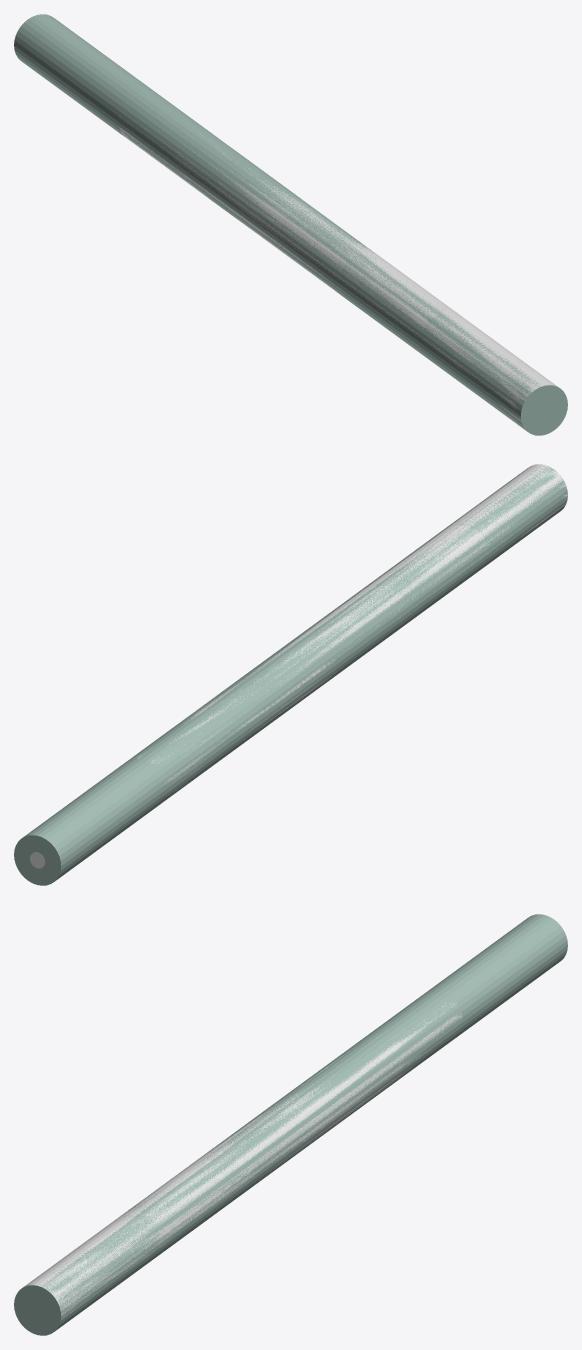
3 views of the same model, one above another, from view 1: azimuth 30°, elevation 25°; view 2: azimuth 150°, elevation 25°; view 3: azimuth 330°, elevation 25° (orthographic).
Parts seen in each view (by area): view 1: UCL_Rocket, Rocket_LOD0; view 2: UCL_Rocket, Rocket_LOD0; view 3: UCL_Rocket, Rocket_LOD0.
Part boxes in pixels (<box>): UCL_Rocket: <box>14,14,567,435</box>; Rocket_LOD0: <box>119,112,558,422</box>; UCL_Rocket: <box>14,464,567,885</box>; Rocket_LOD0: <box>30,464,567,868</box>; UCL_Rocket: <box>14,914,567,1335</box>; Rocket_LOD0: <box>23,1003,462,1317</box>.
Size of the model in its own units: 12.2 by 12.2 by 227.
